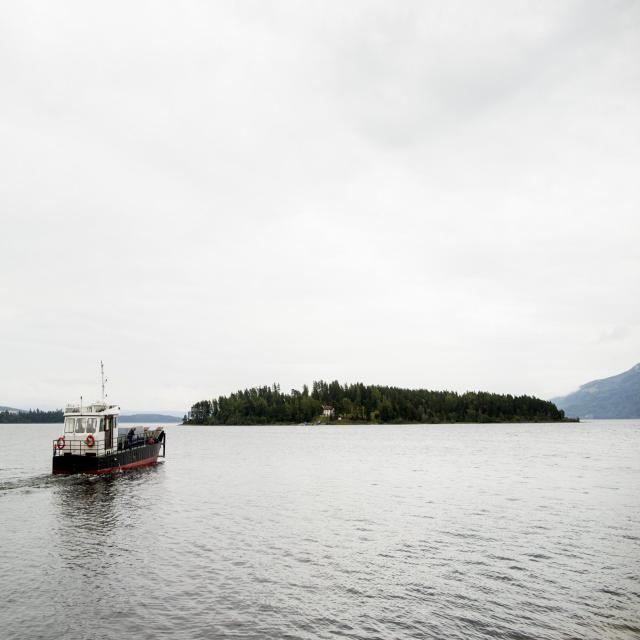fishing boat: (46, 390, 172, 480)
